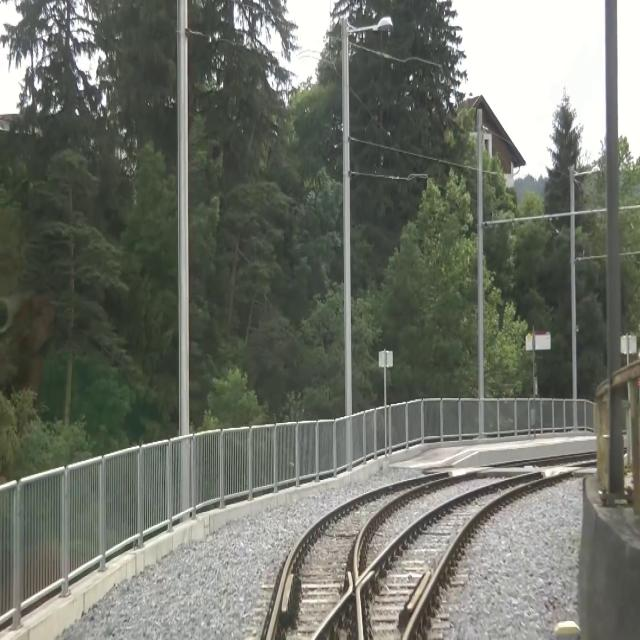rail-track: (361, 487, 503, 639), (272, 486, 402, 639), (317, 594, 357, 639)
